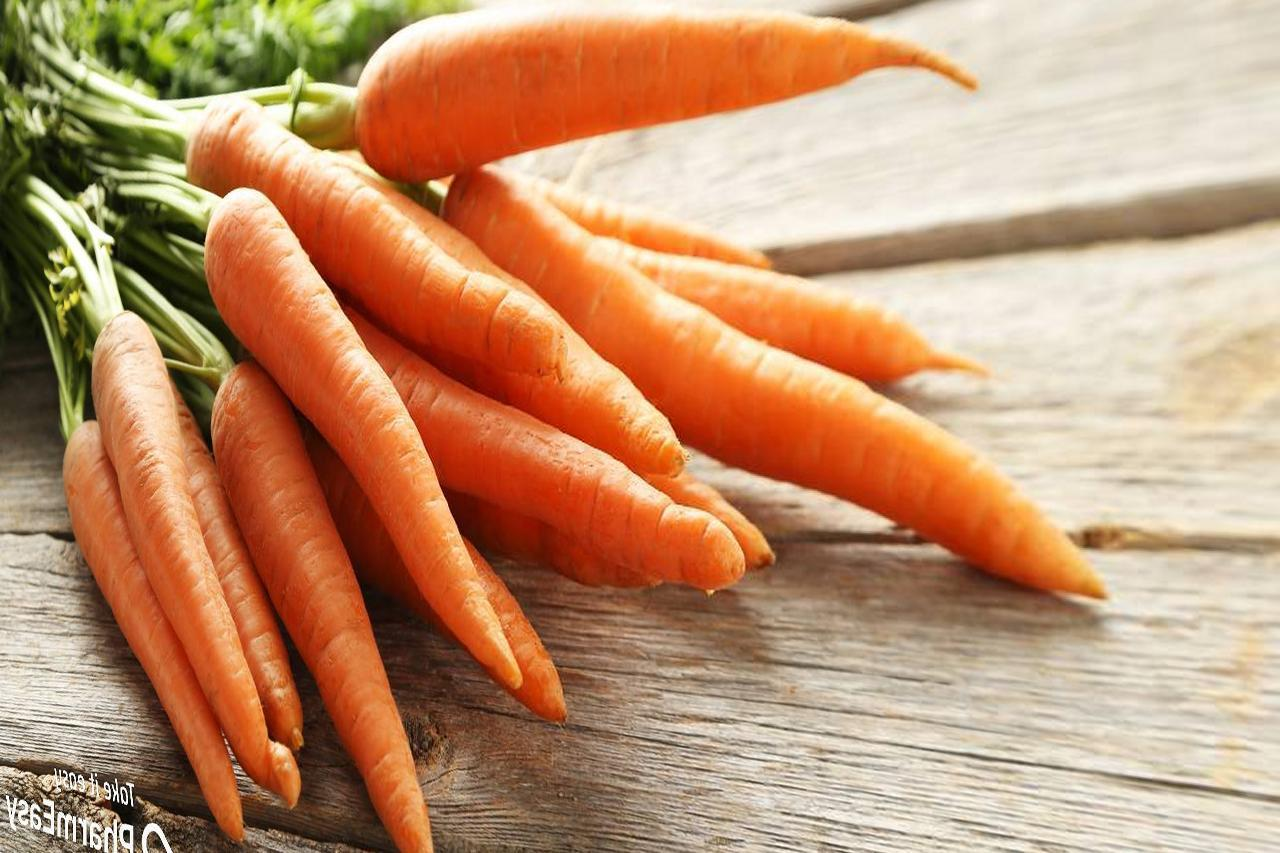carrot: (142, 73, 1012, 611), (18, 268, 1102, 655), (265, 1, 982, 162)
